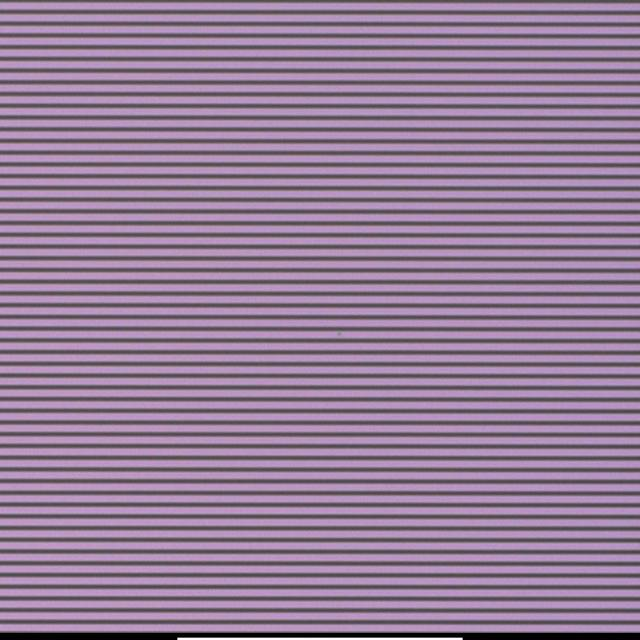nonvisual: (336, 322, 346, 339)
